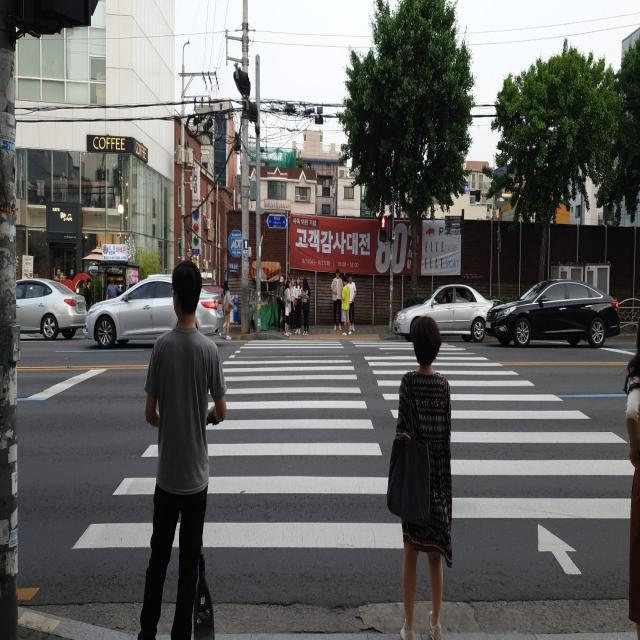빨간불: (378, 215, 393, 243)
횡단보도: (70, 315, 640, 545)
